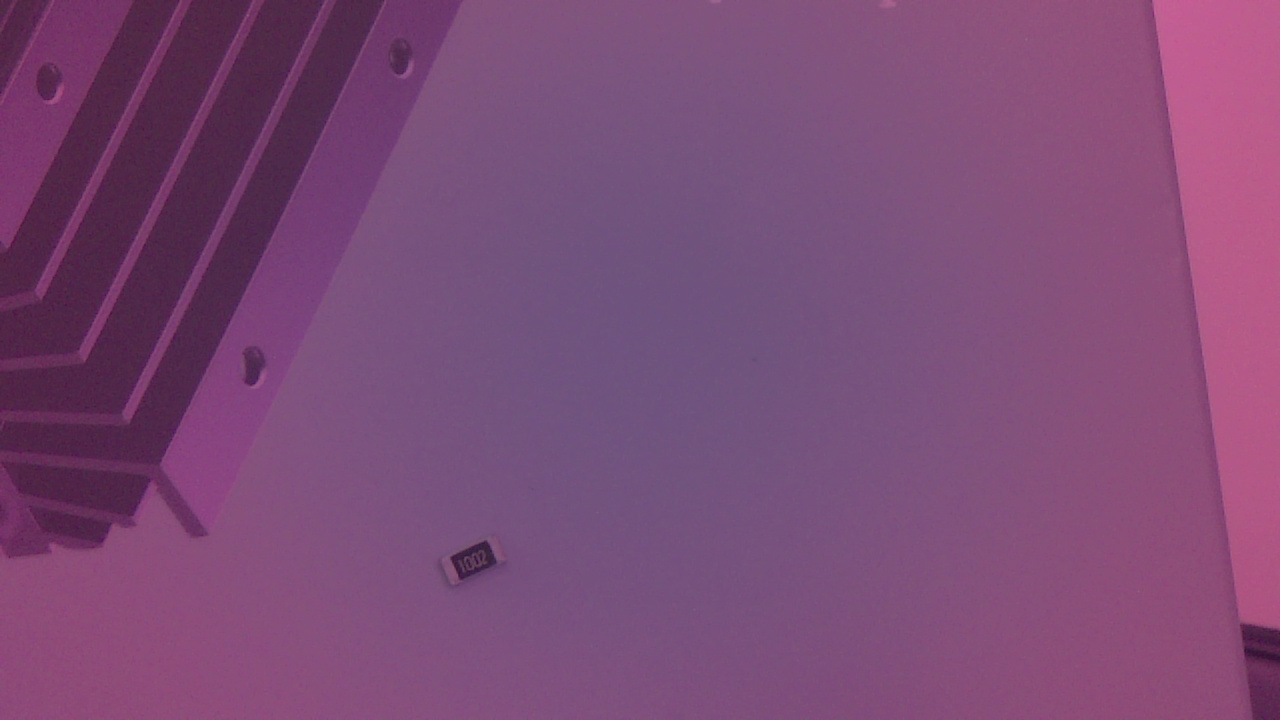Resistor: (438, 531, 518, 605)
